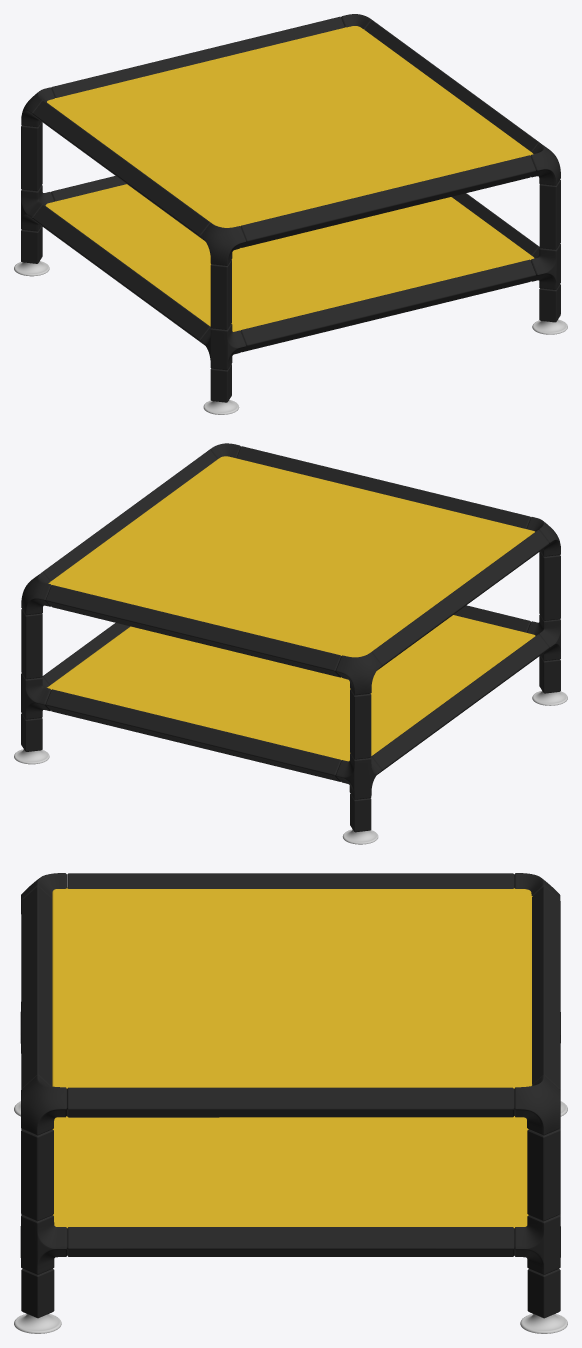
3 renders of one model, top to bottom at view 1: azimuth 30°, elevation 25°; view 2: azimuth 150°, elevation 25°; view 3: azimuth 270°, elevation 25°, orthographic. The views are drawn at different scales.
Parts seen in each view (by area): view 1: 374x374x79; view 2: 374x374x79; view 3: 374x374x79.
Boxes of the visible parts, bbox=[...] form: 374x374x79: bbox=[14, 14, 567, 414]; 374x374x79: bbox=[14, 443, 567, 844]; 374x374x79: bbox=[14, 873, 567, 1333].
Bounding box in the file's own units: 0.4639 × 0.2183 × 0.4632.
